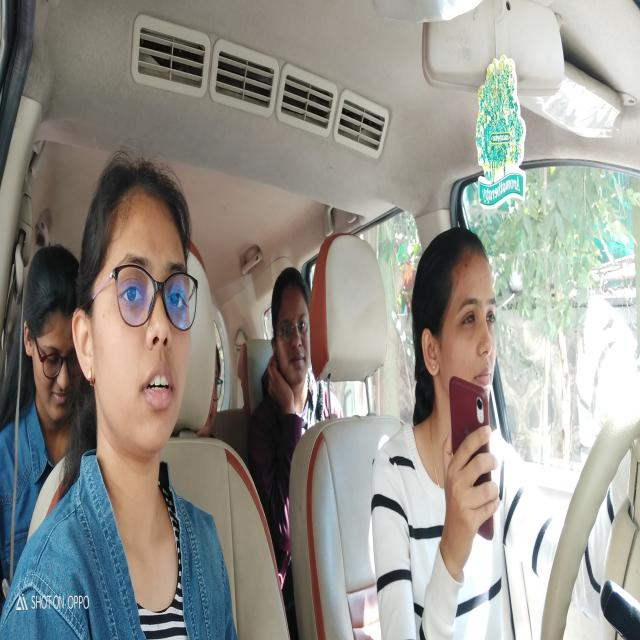mobile: (446, 369, 498, 556)
person: (73, 144, 200, 482), (411, 215, 506, 463), (22, 244, 87, 434), (268, 260, 317, 419), (206, 346, 226, 438)
